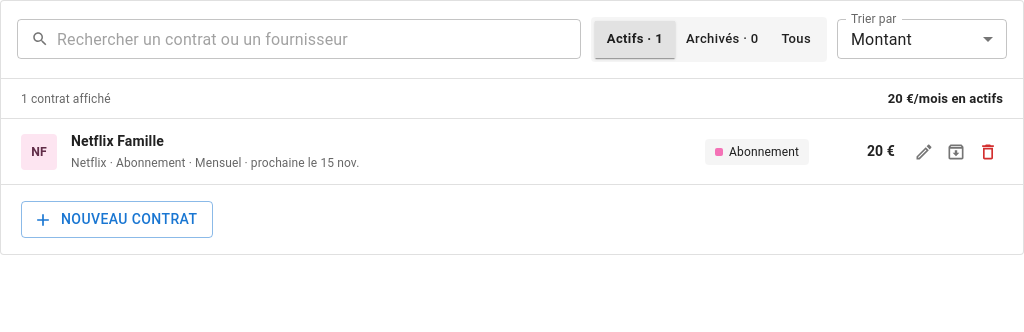
it: ContractSettings – actions › affiche un message quand l'action lève (session expirée)
The width and height of the screenshot is (1024, 332).
Click the button named "Archiver Netflix Famille": (956,152) [941,137,971,167]
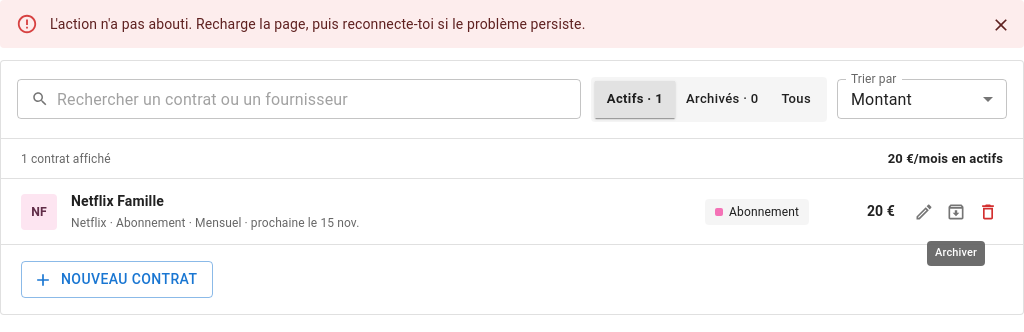
Expected: the text "L'action n'a pas abouti" is shown, [50,16,586,32]
